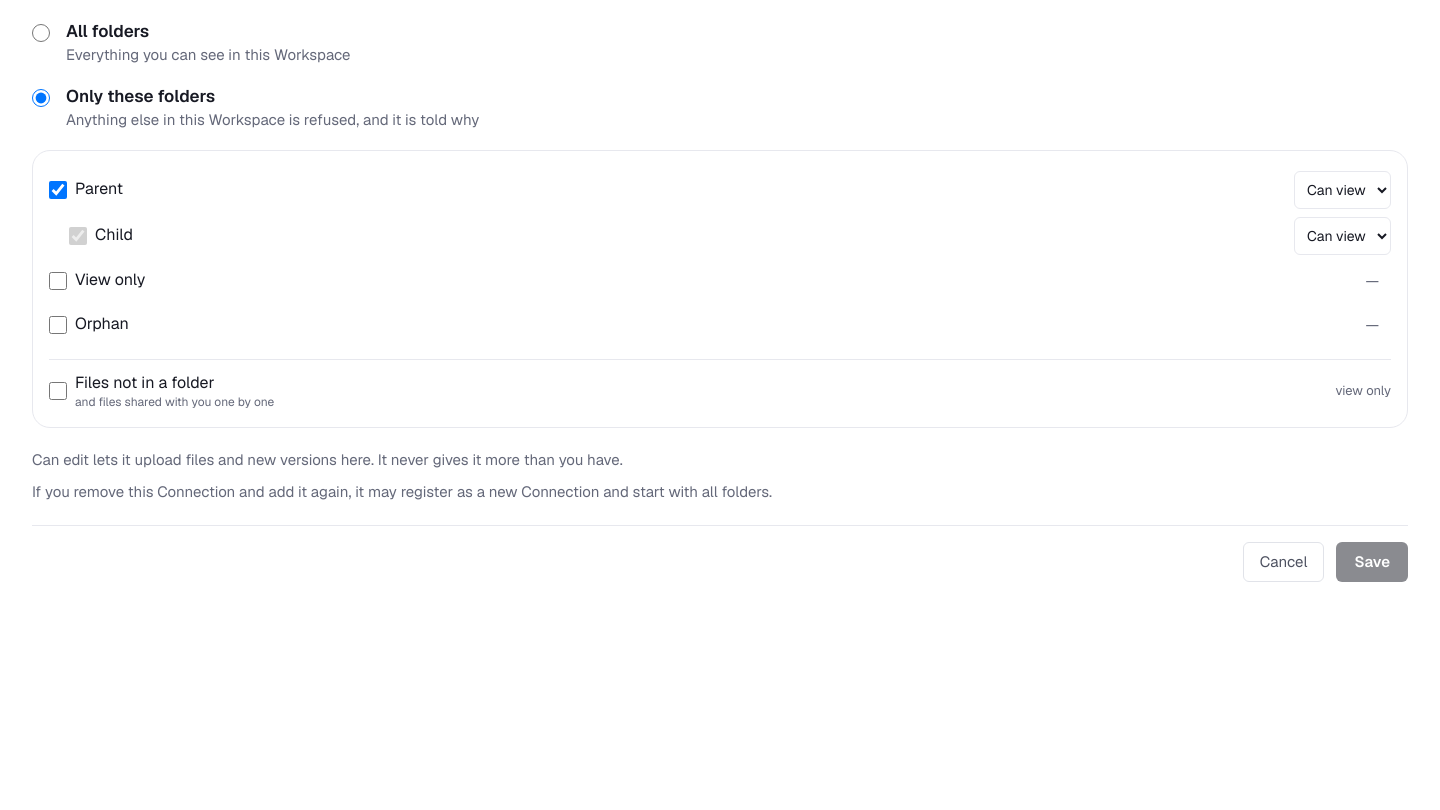
ConnectionFoldersForm › stores a child override and removes it when set back to its parent's right
Select "Can edit" in the dropdown named "Child access". click: (1342, 236)
box: top-left (1294, 217), bottom-right (1391, 255)
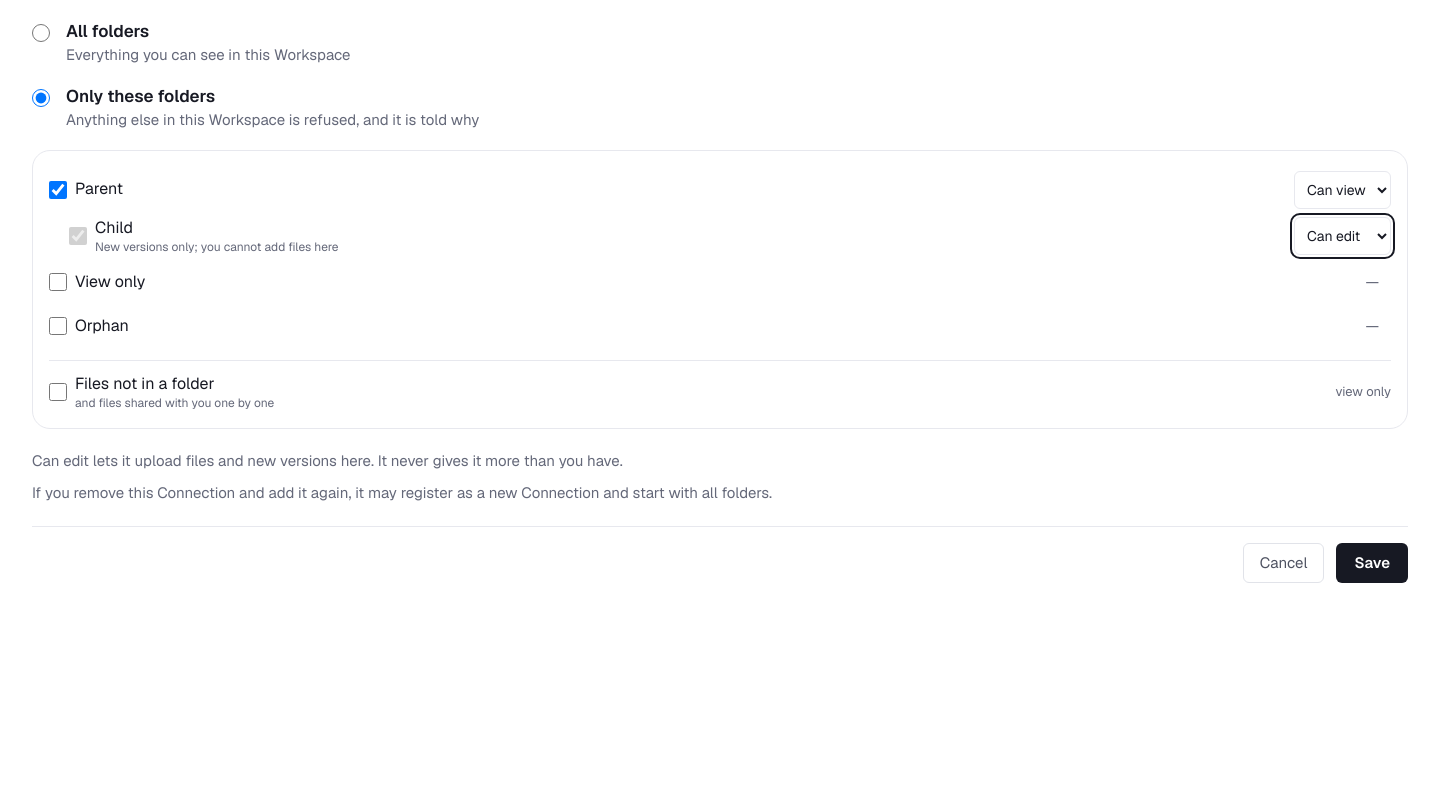
Now the text "New versions only; you cannot add files here" is shown, box top-left (95, 239), bottom-right (339, 255)
Click the button "Save". click: (1372, 563)
box: top-left (1336, 543), bottom-right (1408, 583)
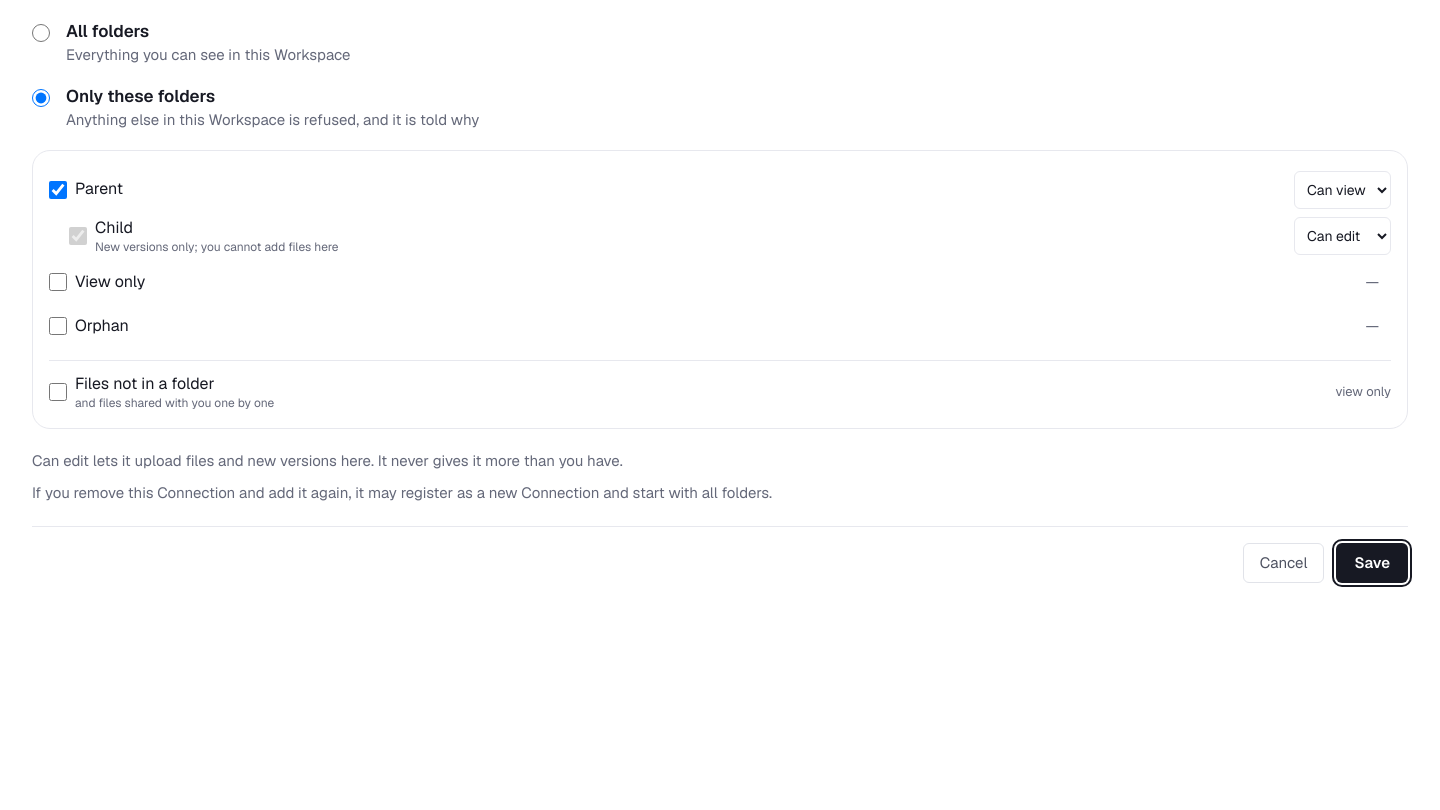
Select "Can view" in the dropdown named "Child access". click: (1342, 236)
box: top-left (1294, 217), bottom-right (1391, 255)
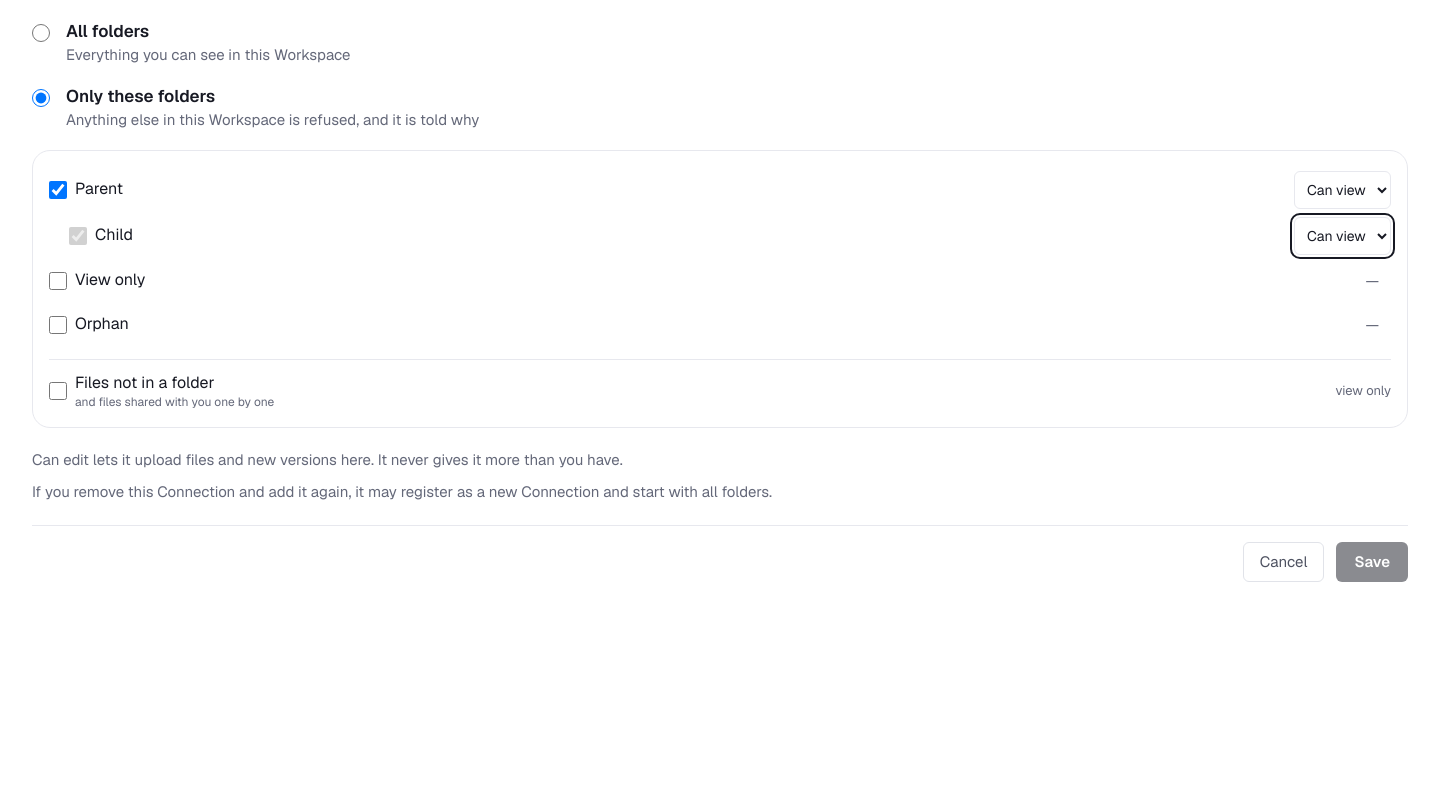
Now the button "Save" is disabled, box top-left (1336, 542), bottom-right (1408, 582)
